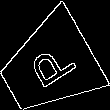P_SW: (19, 38, 77, 96)
